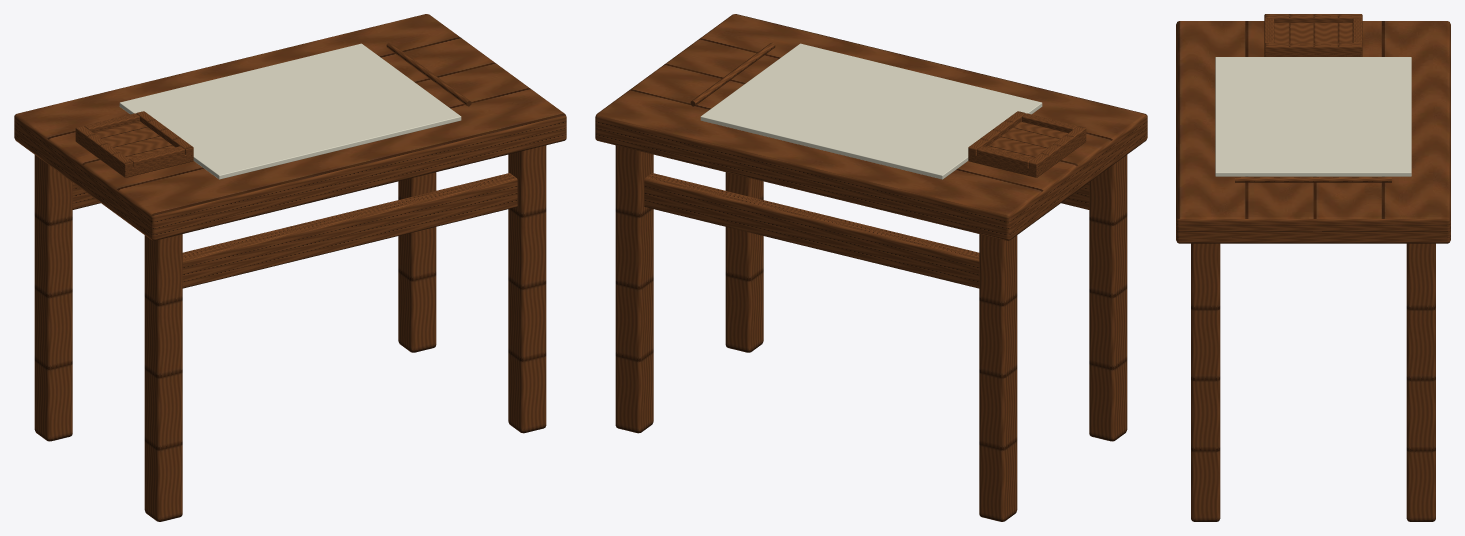
Rendered from prehistoric-expedition-sites-field-sketch-table-c37ddbf2__26119.glb.
The picture shows the model from 3 angles, left to right: view 1: azimuth 30°, elevation 25°; view 2: azimuth 150°, elevation 25°; view 3: azimuth 270°, elevation 25°; orthographic projection.
Visible parts, largest first — view 1: field-sketch-table; view 2: field-sketch-table; view 3: field-sketch-table.
Boxes of the visible parts, x1,y1,x2,y2 form: field-sketch-table: (14, 14, 566, 521); field-sketch-table: (595, 14, 1147, 521); field-sketch-table: (1176, 14, 1450, 521).
Size of the model in its own units: 1.2 by 0.9151 by 0.7.
2 materials, 1 textured.
